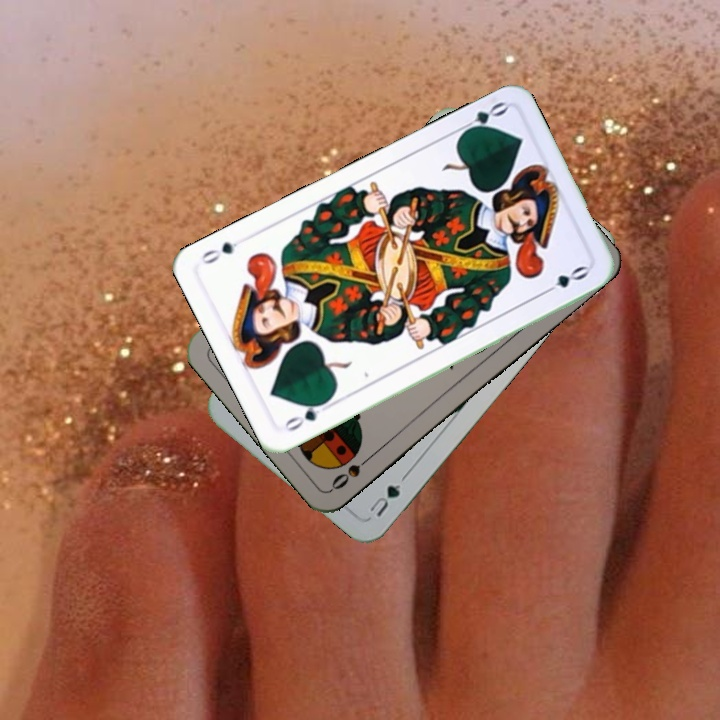GO: (453, 97, 510, 138), (279, 396, 335, 434)
GU: (364, 480, 404, 520)
SO: (327, 449, 377, 493)
